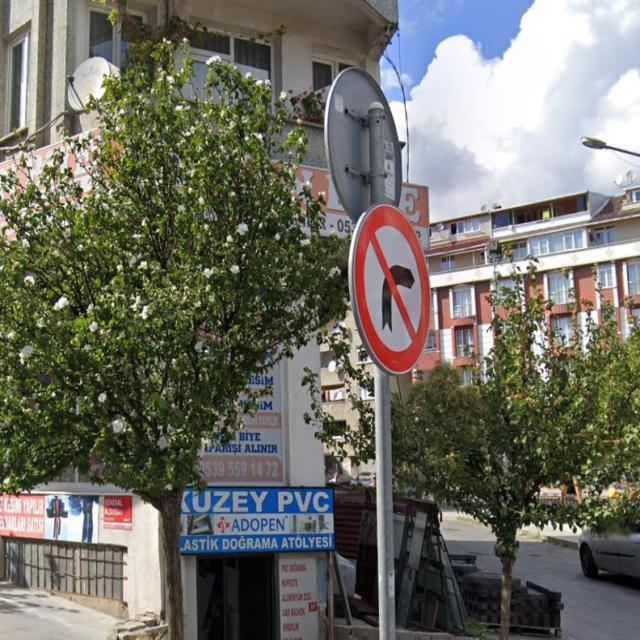sagadonulmez: (352, 203, 431, 376)
